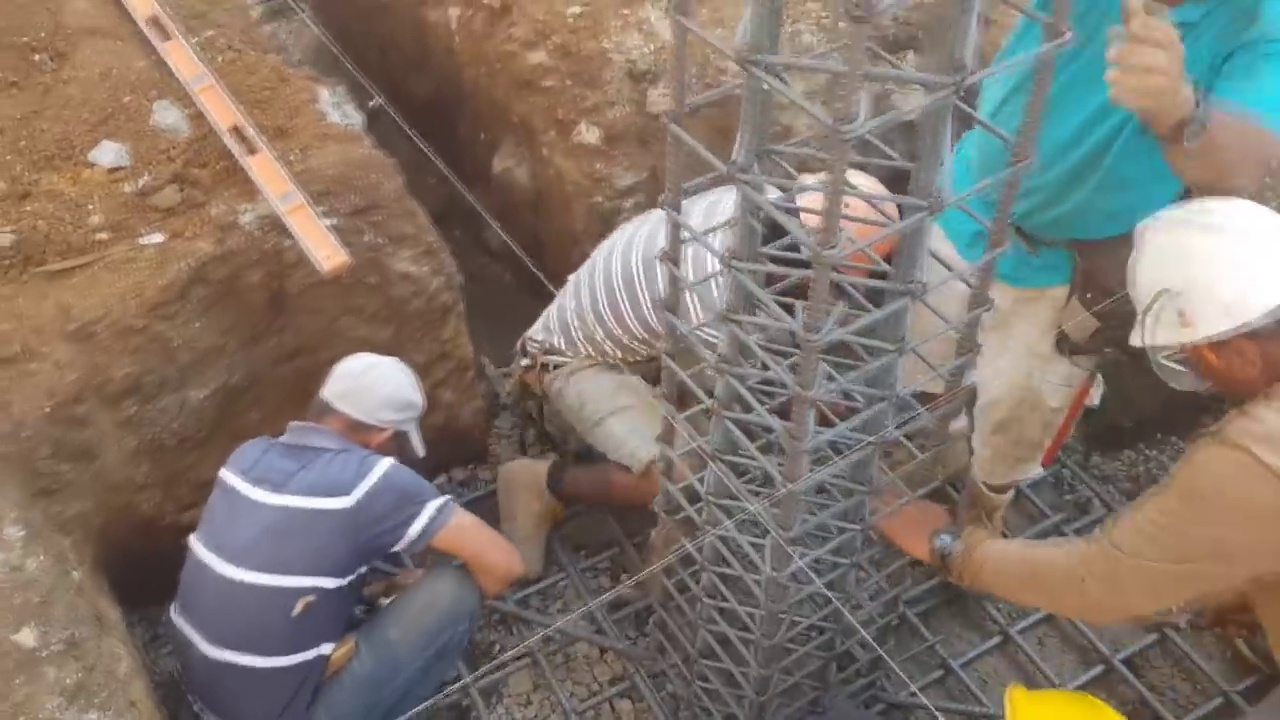helmet: (1123, 192, 1280, 353), (795, 166, 902, 294)
helmet-off: (303, 347, 430, 464)
helmet-on: (1119, 188, 1280, 413), (760, 168, 903, 296)
person: (889, 2, 1279, 550), (877, 184, 1280, 670), (493, 168, 902, 576), (168, 344, 522, 714)
